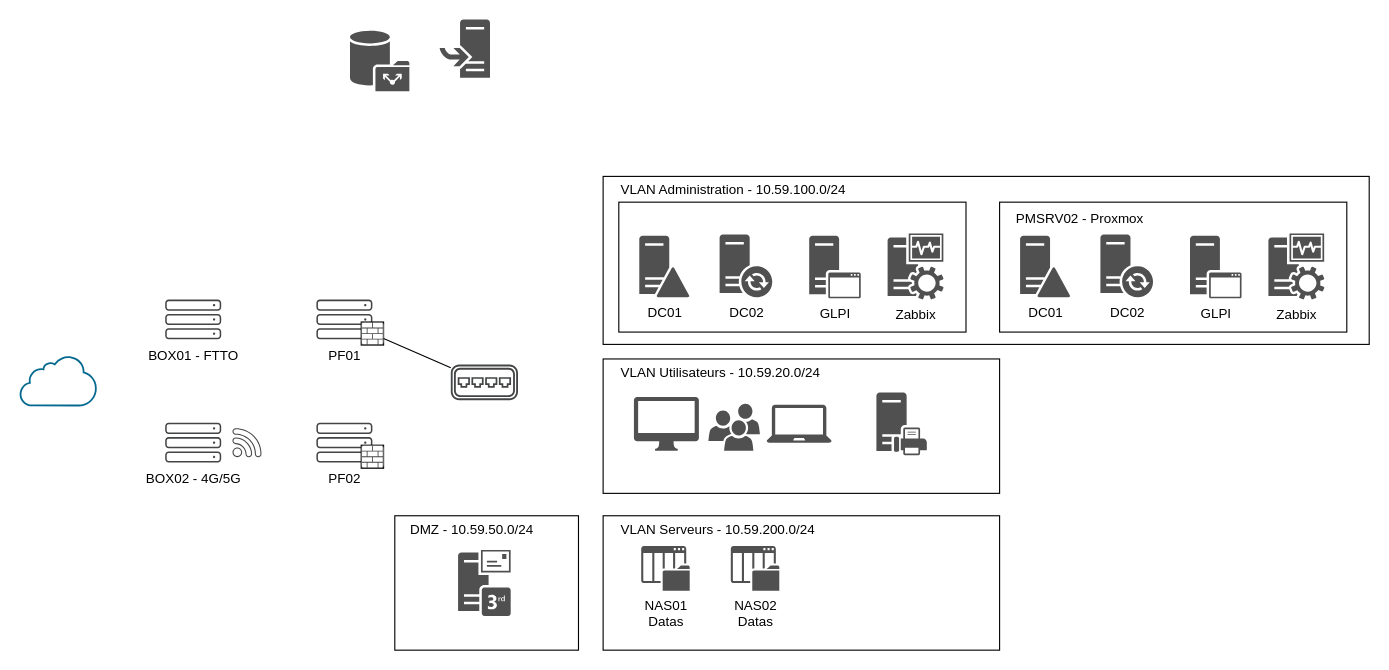
Image size: 1389x670. Some labels were removed from this diagram. The shapes that lost their labels are listed below. From the top down, each one's centre as x and y in pixels, then its label:
At (x=483, y=382): "SWITCH".
At (x=901, y=423): "Serveur d'impression".
